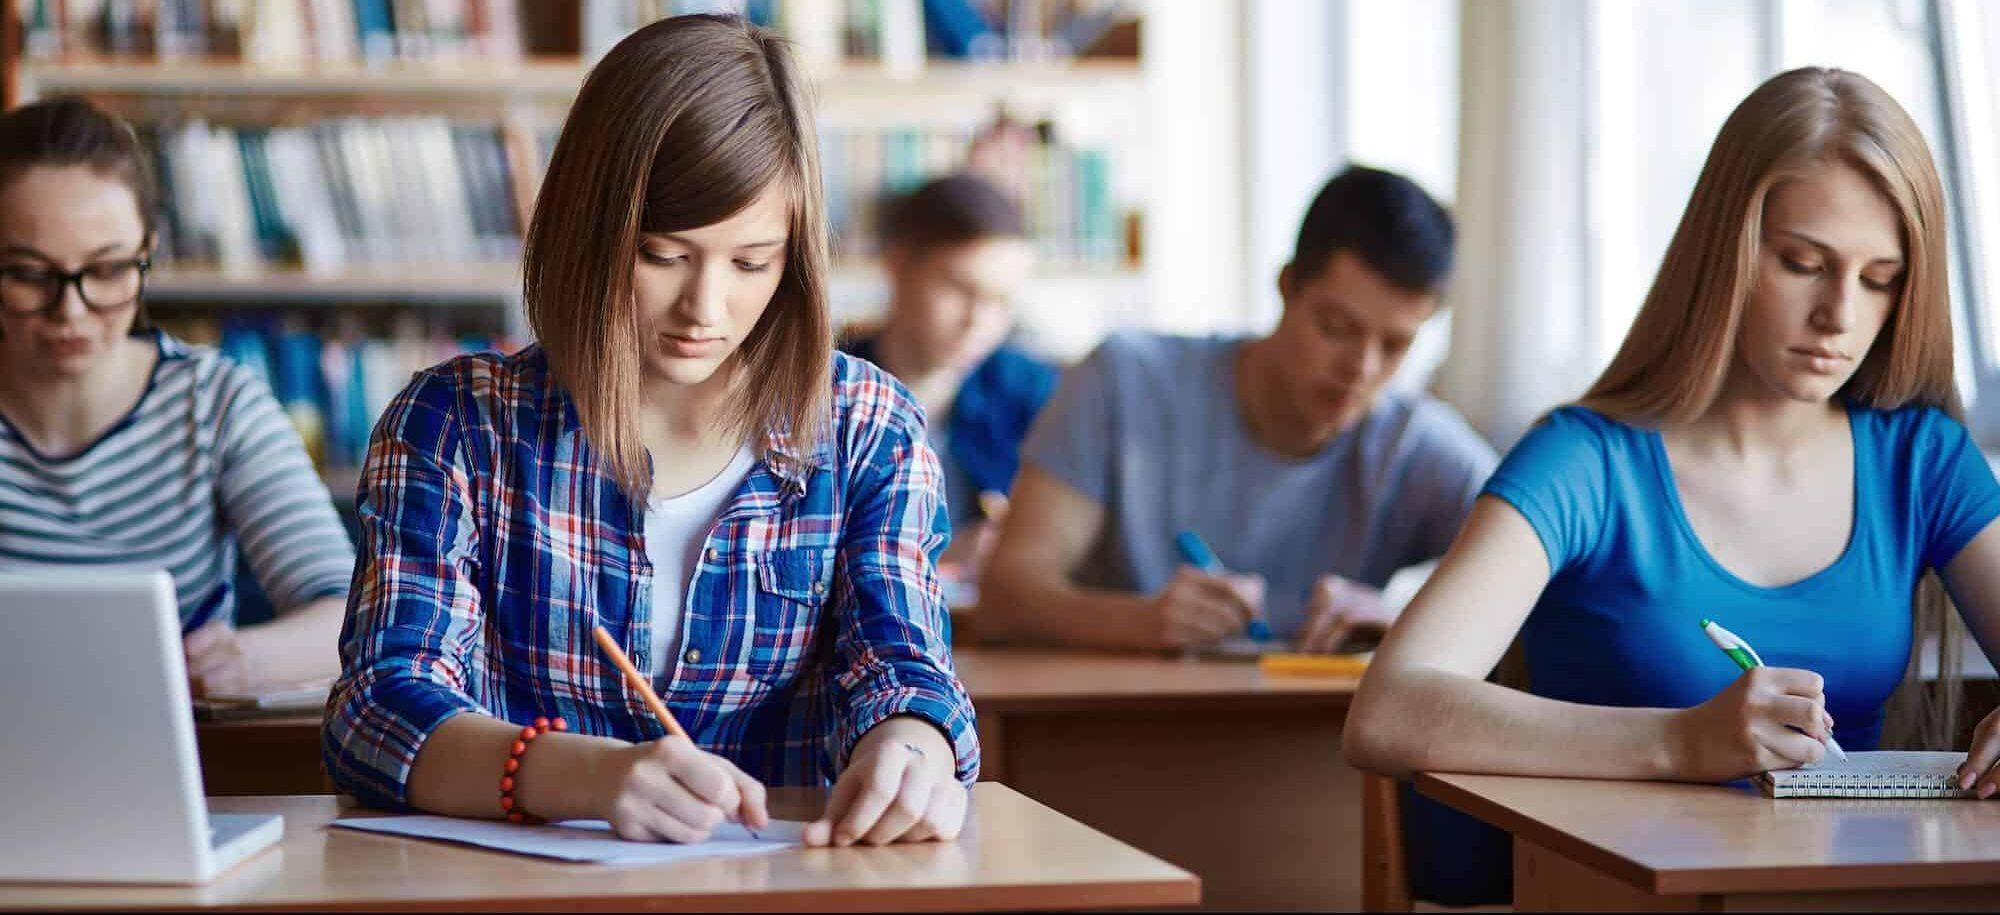student: (315, 14, 1019, 861), (1519, 57, 2000, 813), (950, 145, 1515, 672)
